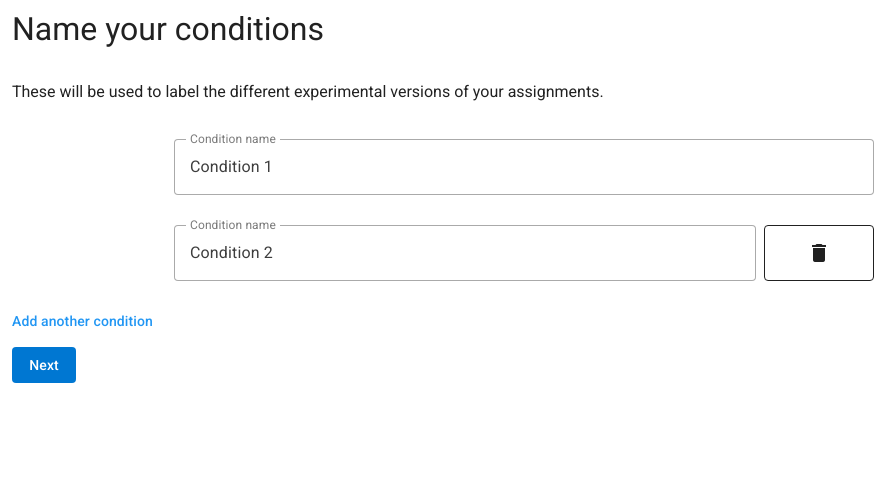
Test: DesignConditions › adds a new condition when 'Add another condition' is clicked
Click the button with class "add_condition". click: (82, 321)
box: [12,303,153,339]
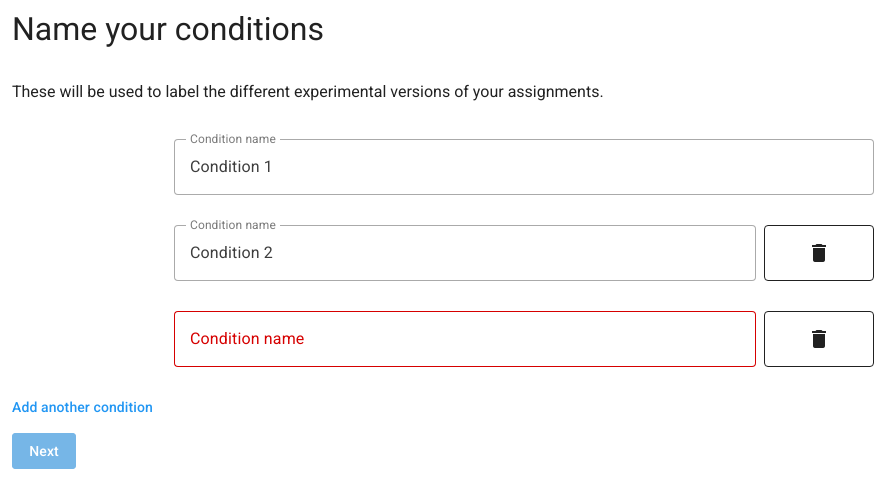
Now the number of "VTextField" components is 3, box [174,139,874,217]; [174,225,756,303]; [174,311,756,389]
